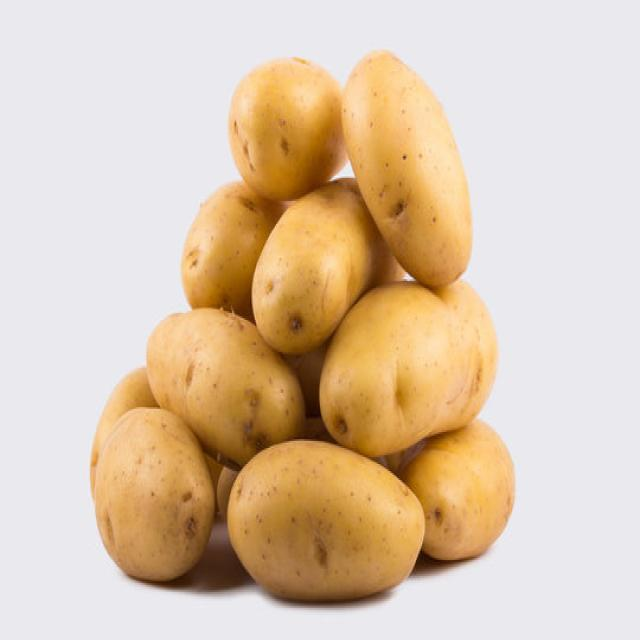Lemon: (227, 437, 426, 601)
Potato: (340, 48, 473, 286), (250, 176, 404, 354), (144, 306, 304, 468), (328, 292, 504, 431), (94, 406, 214, 582), (227, 50, 337, 193), (423, 433, 519, 562), (177, 171, 255, 309), (89, 364, 158, 500)
